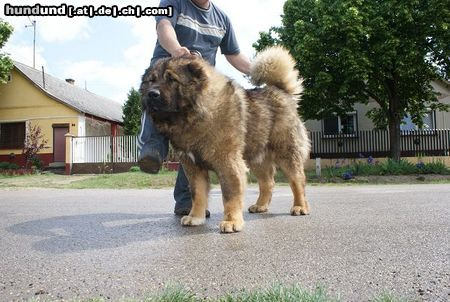cau_ovcharka: (137, 42, 311, 233)
person: (138, 0, 252, 219)
